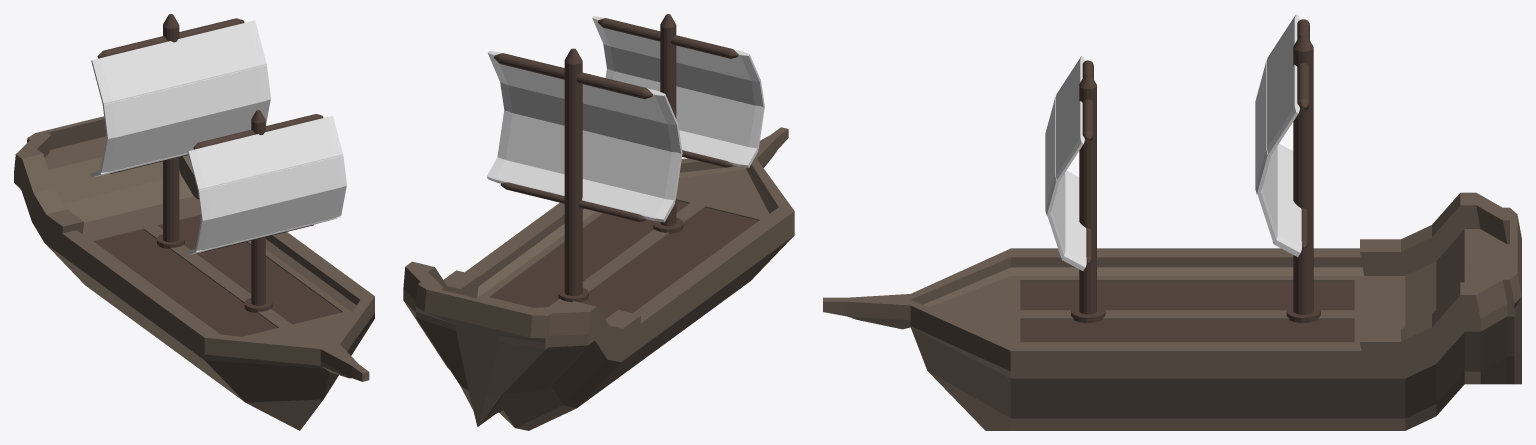
File: Ship.fbx
The picture shows the model from 3 angles, left to right: view 1: azimuth 30°, elevation 25°; view 2: azimuth 150°, elevation 25°; view 3: azimuth 270°, elevation 25°; orthographic projection. The views are drawn at different scales.
Visible parts, largest first — view 1: Cube, Cube.001, Cube.004, Cylinder.001, Cylinder.002; view 2: Cube, Cube.001, Cube.004, Cylinder.001, Cylinder.002; view 3: Cube, Cube.001, Cube.004, Cylinder.001, Cylinder.002.
Boxes of the visible parts, <box> form: Cube: <box>14,116,374,430</box>; Cube.001: <box>90,20,270,177</box>; Cube.004: <box>187,116,346,254</box>; Cylinder.001: <box>97,14,244,248</box>; Cylinder.002: <box>193,110,323,312</box>; Cube: <box>403,127,794,430</box>; Cube.001: <box>487,51,682,222</box>; Cube.004: <box>592,16,764,167</box>; Cylinder.001: <box>494,48,652,302</box>; Cylinder.002: <box>598,14,738,233</box>; Cube: <box>823,192,1521,430</box>; Cube.001: <box>1255,14,1301,257</box>; Cube.004: <box>1045,56,1086,270</box>; Cylinder.001: <box>1286,19,1320,322</box>; Cylinder.002: <box>1071,60,1105,323</box>.
Size of the model in its own units: 647 by 1167 by 1865.
